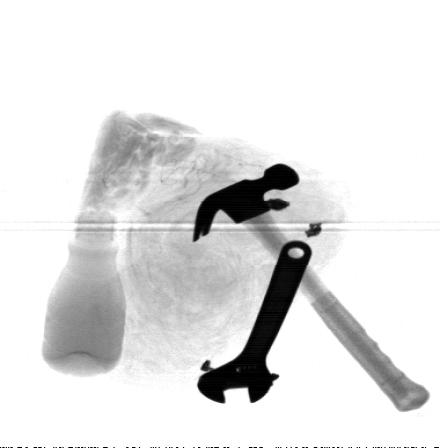Hammer: (191, 163, 432, 412)
Wrench: (196, 239, 311, 403)
